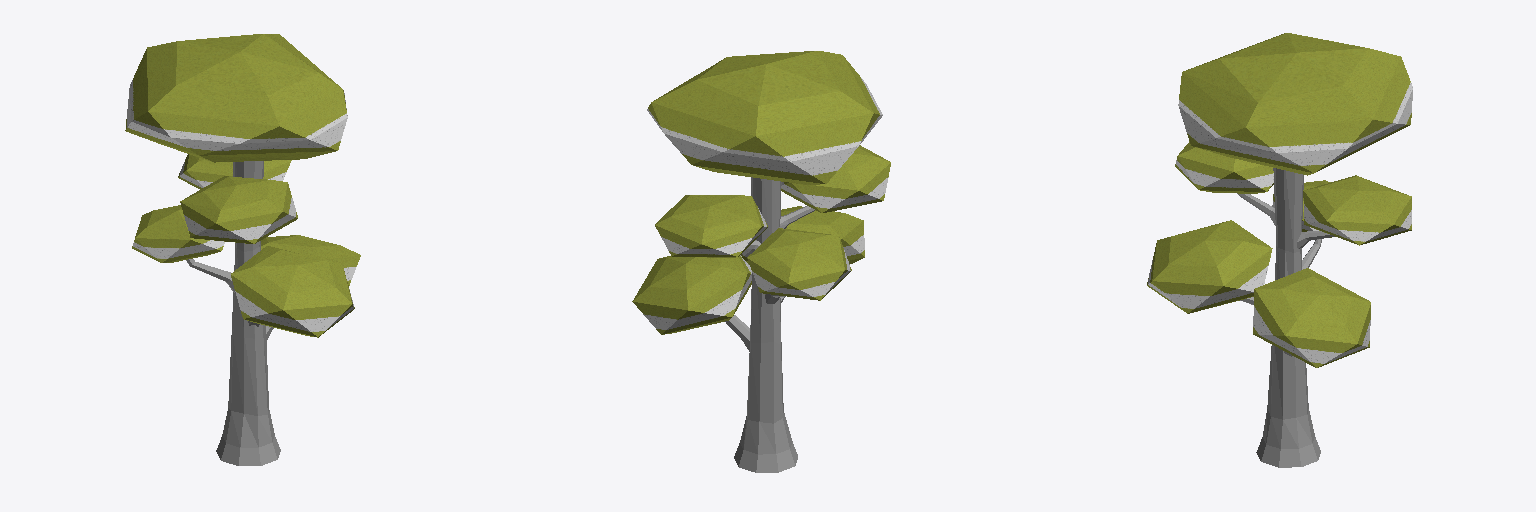
3 views of the same model, side by side, from view 1: azimuth 30°, elevation 25°; view 2: azimuth 150°, elevation 25°; view 3: azimuth 270°, elevation 25° (orthographic).
Parts seen in each view (by area): view 1: Icosphere.000, Icosphere.004; view 2: Icosphere.000, Icosphere.004; view 3: Icosphere.000, Icosphere.004.
Part boxes in pixels (x1,y1,x2,y2): Icosphere.000: (125,34,360,337); Icosphere.004: (186,161,280,465); Icosphere.000: (632,51,890,334); Icosphere.004: (725,177,814,472); Icosphere.000: (1147,33,1412,367); Icosphere.004: (1237,168,1334,467).
Bounding box in the file's own units: 1.83 × 3.23 × 1.96.
2 materials, 1 textured.